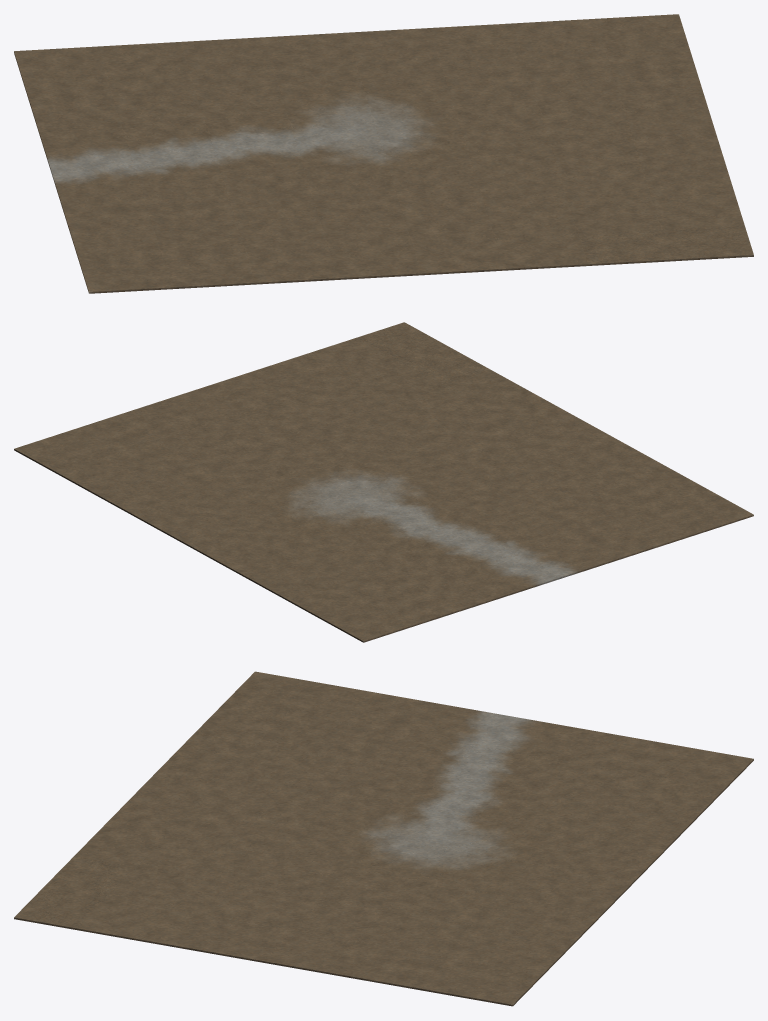
3 renders of one model, top to bottom at view 1: azimuth 30°, elevation 25°; view 2: azimuth 150°, elevation 25°; view 3: azimuth 270°, elevation 25°, orthographic. The views are drawn at different scales.
Visible parts, largest first — view 1: Ground_0_-1_0_100, Ground_0_-1_0_110, Ground_0_0_0_100, Ground_0_0_0_110, Ground_-1_-1_0_000, Ground_-1_0_0_000, Ground_-1_-1_0_100_000, Ground_-1_-1_0_010, Ground_-1_0_0_010, Ground_0_-1_0_000_100, Ground_0_-1_0_010_110, Ground_-1_0_0_110_010 (+28 smaller); view 2: Ground_-1_-1_0_000, Ground_0_-1_0_000_100, Ground_-1_-1_0_100_000, Ground_-1_-1_0_010, Ground_-1_0_0_010, Ground_-1_0_0_000, Ground_0_-1_0_100, Ground_0_0_0_000_100, Ground_-1_0_0_100_010, Ground_0_-1_0_000_110, Ground_-1_-1_0_110_000, Ground_-1_-1_0_110_010 (+28 smaller); view 3: Ground_0_0_0_010_110, Ground_-1_0_0_110_010, Ground_-1_0_0_010, Ground_-1_0_0_000, Ground_0_0_0_110, Ground_-1_-1_0_010, Ground_-1_-1_0_000, Ground_0_-1_0_000_100, Ground_-1_-1_0_110_010, Ground_-1_0_0_100_010, Ground_0_-1_0_010_100, Ground_0_0_0_000_110 (+28 smaller).
Boxes of the visible parts, x1,y1,x2,y2 form: Ground_0_-1_0_100: (79,252,255,293); Ground_0_-1_0_110: (246,243,421,284); Ground_0_0_0_100: (412,234,587,275); Ground_0_0_0_110: (578,225,753,265); Ground_-1_-1_0_000: (14,42,189,81); Ground_-1_0_0_000: (346,23,521,62); Ground_-1_-1_0_100_000: (23,76,124,141); Ground_-1_-1_0_010: (180,32,355,71); Ground_-1_0_0_010: (513,14,687,53); Ground_0_-1_0_000_100: (61,197,162,262); Ground_0_-1_0_010_110: (310,183,411,247); Ground_-1_0_0_110_010: (605,44,706,108); Ground_-1_-1_0_000: (276,577,412,642); Ground_0_-1_0_000_100: (564,506,705,563); Ground_-1_-1_0_100_000: (369,570,509,626); Ground_-1_-1_0_010: (188,529,324,594); Ground_-1_0_0_010: (14,433,149,497); Ground_-1_0_0_000: (101,481,236,546); Ground_0_-1_0_100: (618,466,753,531); Ground_0_0_0_000_100: (389,410,529,465); Ground_-1_0_0_100_010: (150,449,290,504); Ground_0_-1_0_000_110: (520,482,660,537); Ground_-1_-1_0_110_000: (281,521,421,577); Ground_-1_-1_0_110_010: (238,497,378,553); Ground_0_0_0_010_110: (76,897,230,951); Ground_-1_0_0_110_010: (325,941,480,995); Ground_-1_0_0_010: (450,932,573,1006); Ground_-1_0_0_000: (511,871,633,944); Ground_0_0_0_110: (14,856,135,929); Ground_-1_-1_0_010: (571,809,693,882); Ground_-1_-1_0_000: (632,748,753,821); Ground_0_-1_0_000_100: (287,682,441,734); Ground_-1_-1_0_110_010: (447,818,600,870); Ground_-1_0_0_100_010: (386,880,540,932); Ground_0_-1_0_010_100: (227,744,381,796); Ground_0_0_0_000_110: (137,836,290,888).
Bounding box in the file's own units: 140 × 0.33 × 132.
Materials: 40 (40 with a texture image).
